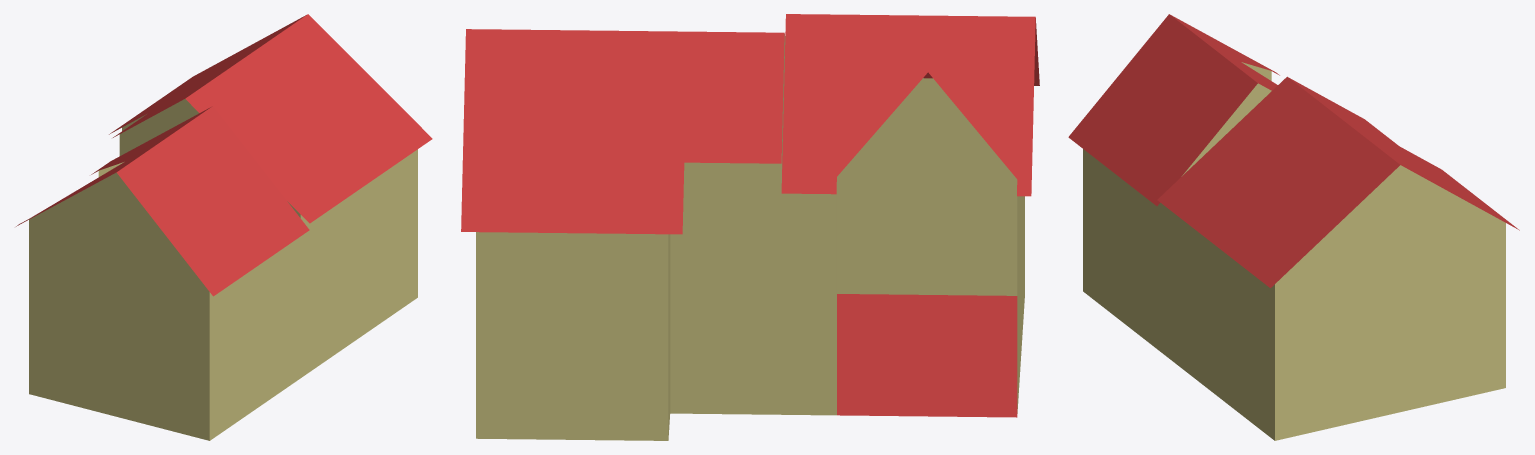
The picture shows the model from 3 angles, left to right: view 1: azimuth 30°, elevation 25°; view 2: azimuth 150°, elevation 25°; view 3: azimuth 270°, elevation 25°; orthographic projection. The views are drawn at different scales.
Bounding box in the file's own units: 22.37 × 20.84 × 12.83.
